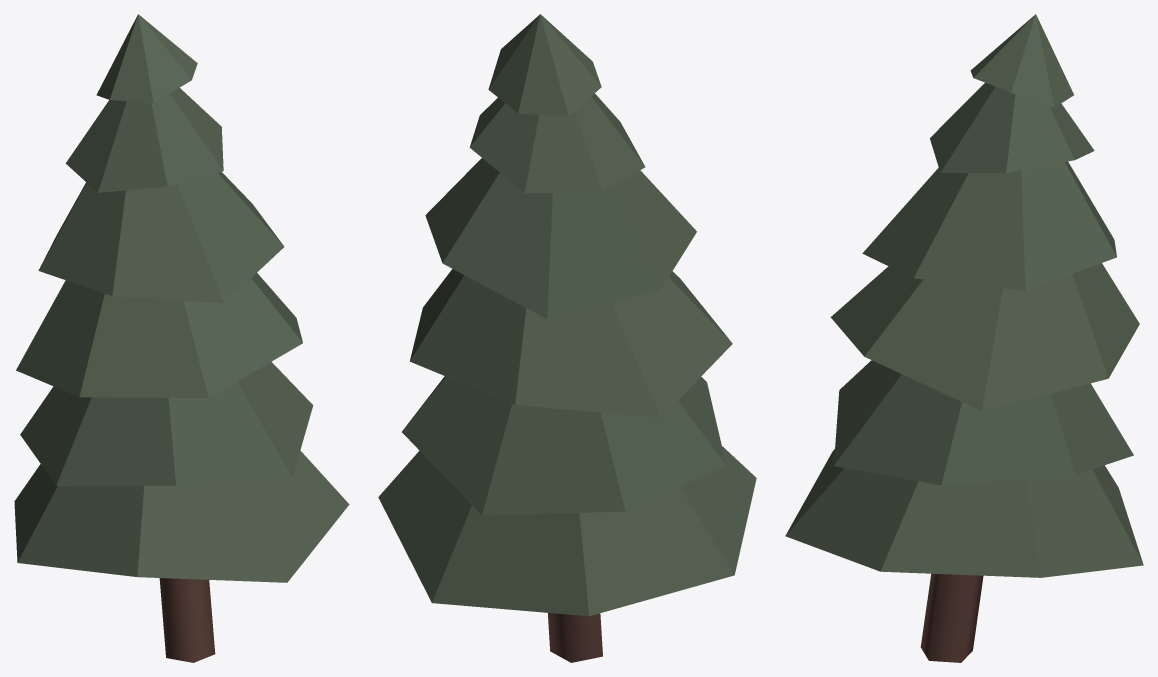
Rendered from FirTree_4.fbx.
The picture shows the model from 3 angles, left to right: view 1: azimuth 30°, elevation 25°; view 2: azimuth 150°, elevation 25°; view 3: azimuth 270°, elevation 25°; orthographic projection. The views are drawn at different scales.
Visible parts, largest first — view 1: FirTree5; view 2: FirTree5; view 3: FirTree5.
Part boxes in pixels (x1=…): FirTree5: x1=14, y1=14, x2=349, y2=662; FirTree5: x1=378, y1=14, x2=756, y2=662; FirTree5: x1=785, y1=14, x2=1143, y2=662.
Bounding box in the file's own units: 331 × 659 × 337.
